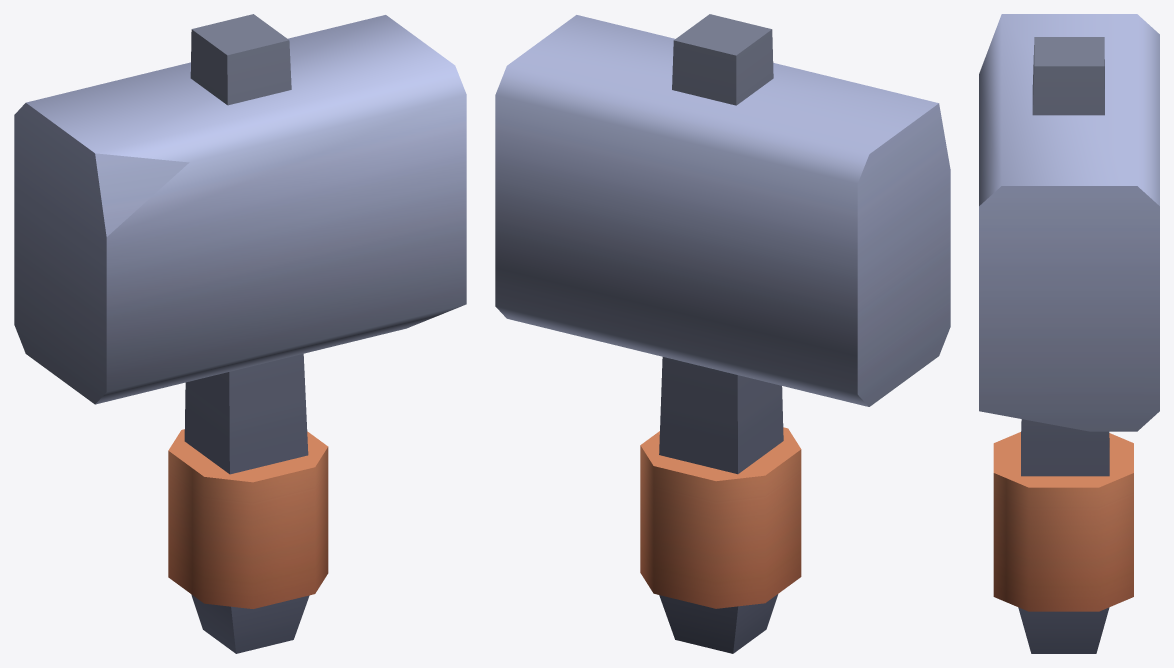
Rendered from kenney-survival-tool-hammer-upgraded.glb.
The picture shows the model from 3 angles, left to right: view 1: azimuth 30°, elevation 25°; view 2: azimuth 150°, elevation 25°; view 3: azimuth 270°, elevation 25°; orthographic projection. The views are drawn at different scales.
Parts seen in each view (by area): view 1: tool-hammer-upgraded; view 2: tool-hammer-upgraded; view 3: tool-hammer-upgraded.
Part boxes in pixels (<box>): tool-hammer-upgraded: <box>14,14,466,653</box>; tool-hammer-upgraded: <box>495,14,950,653</box>; tool-hammer-upgraded: <box>979,14,1159,653</box>.
Size of the model in its own units: 0.1161 by 0.1846 by 0.0516.
Materials: 1 (1 with a texture image).
